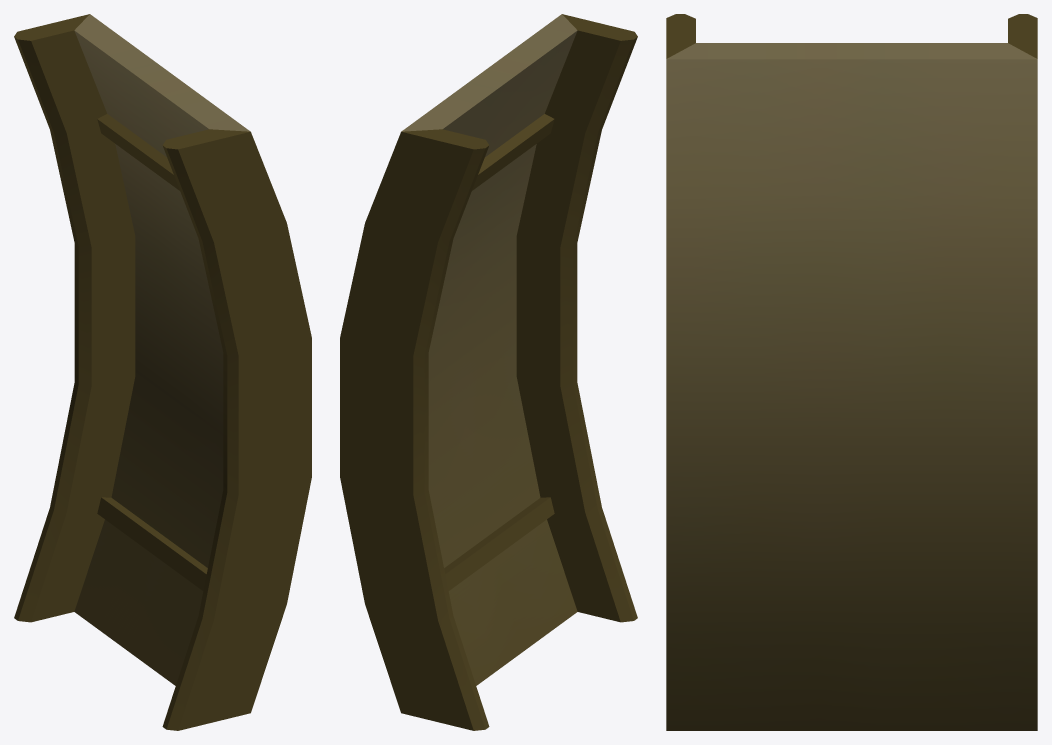
Rendered from SM_WallU.fbx.
The picture shows the model from 3 angles, left to right: view 1: azimuth 30°, elevation 25°; view 2: azimuth 150°, elevation 25°; view 3: azimuth 270°, elevation 25°; orthographic projection. The views are drawn at different scales.
Visible parts, largest first — view 1: SM_WallU; view 2: SM_WallU; view 3: SM_WallU.
Boxes of the visible parts, <box> form: SM_WallU: <box>14,14,311,730</box>; SM_WallU: <box>340,14,637,730</box>; SM_WallU: <box>666,14,1037,730</box>.
Size of the model in its own units: 1.01 by 2 by 3.99.
